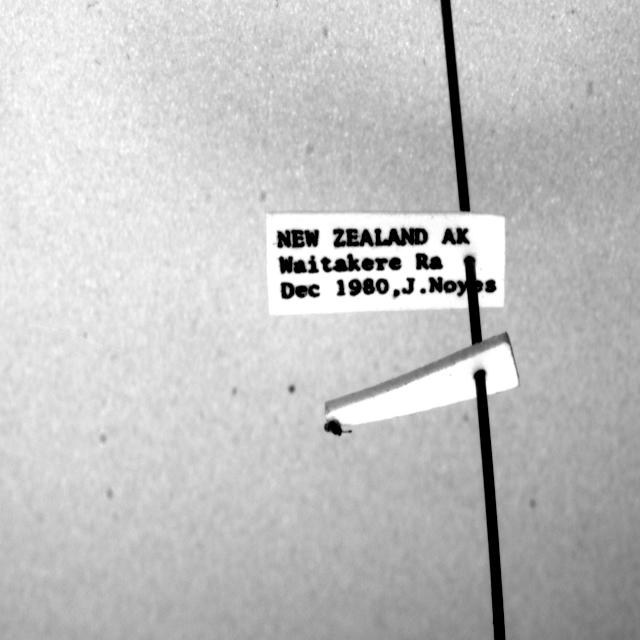typed_label: (266, 212, 505, 315)
